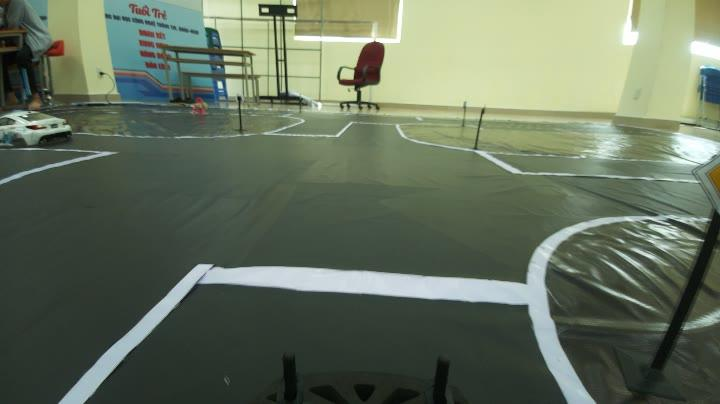priority: (695, 154, 720, 212)
